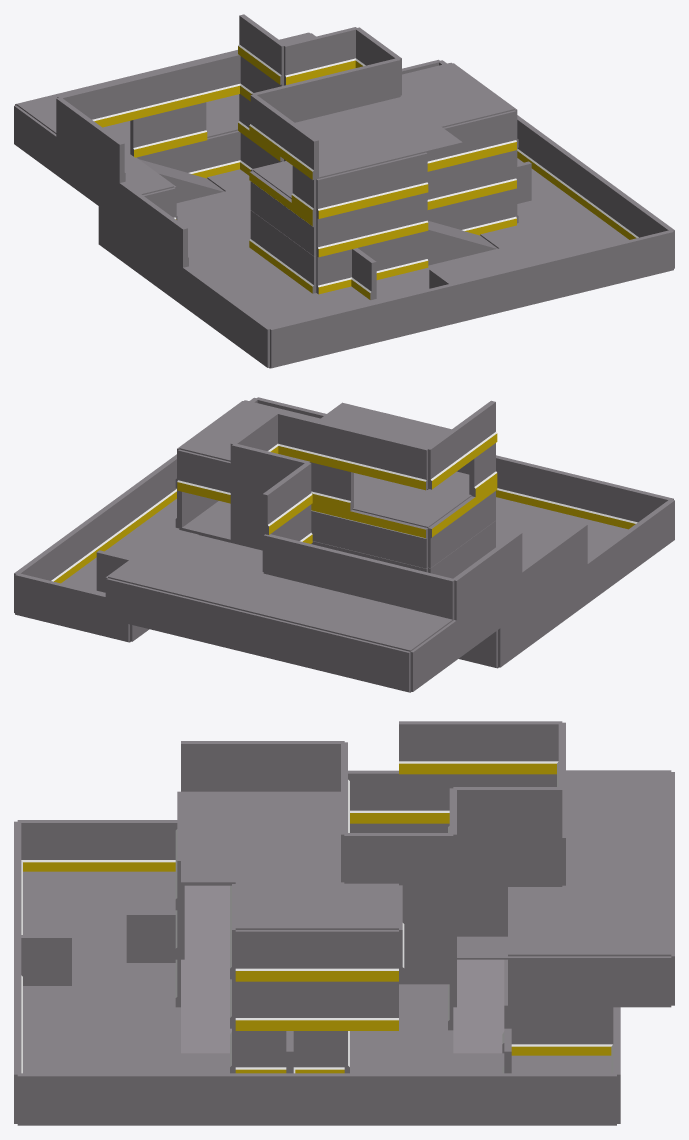
File: buildingPiecesJoined.glb
3 views of the same model, one above another, from view 1: azimuth 30°, elevation 25°; view 2: azimuth 150°, elevation 25°; view 3: azimuth 270°, elevation 25° (orthographic). The views are drawn at different scales.
Visible parts, largest first — view 1: Cube.044; view 2: Cube.044; view 3: Cube.044.
Part boxes in pixels (<box>): Cube.044: <box>14,14,674,368</box>; Cube.044: <box>14,397,674,692</box>; Cube.044: <box>14,721,674,1125</box>.
Bounding box in the file's own units: 33.4 × 12.1 × 36.4.
